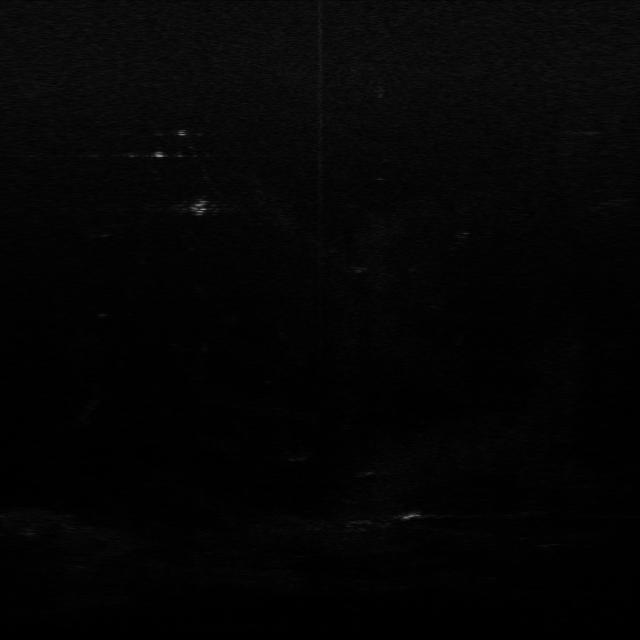rov: (186, 199, 213, 217)
